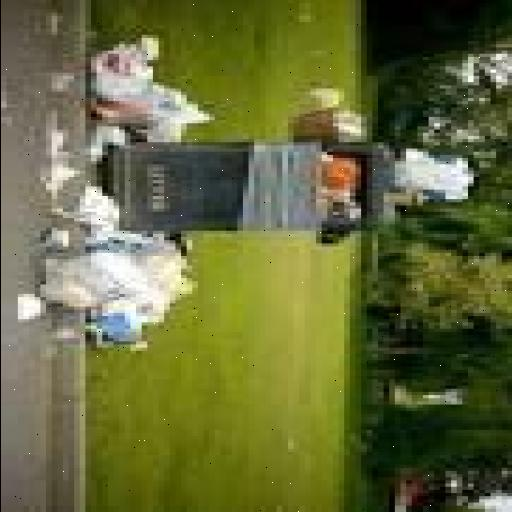poubelle_pleine: (96, 113, 478, 255)
